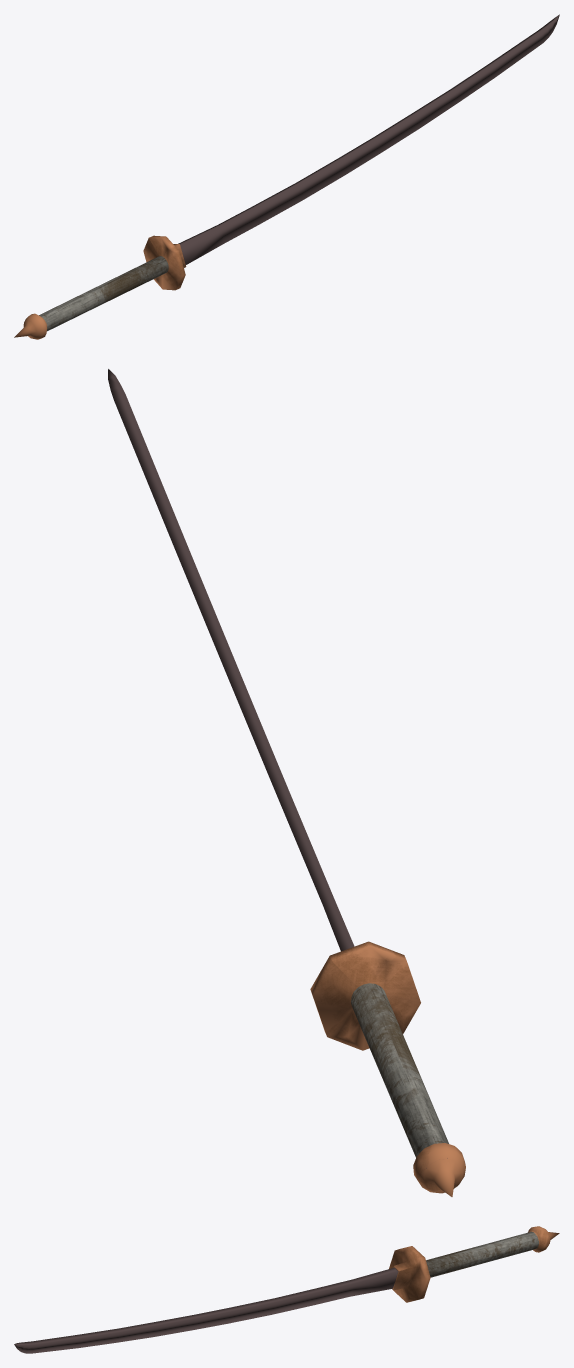
File: Anim_idle_katana_objetos.0029.obj
3 views of the same model, one above another, from view 1: azimuth 90°, elevation 25°; view 2: azimuth 150°, elevation 25°; view 3: azimuth 270°, elevation 25° (orthographic). The views are drawn at different scales.
Parts seen in each view (by area): view 1: Katana1; view 2: Katana1; view 3: Katana1.
Boxes of the visible parts, left/top/right/bottom form: Katana1: left=14, top=14, right=559, bottom=339; Katana1: left=108, top=369, right=465, bottom=1196; Katana1: left=14, top=1226, right=559, bottom=1353.
Bounding box in the file's own units: 3.63 × 0.9058 × 3.85.
